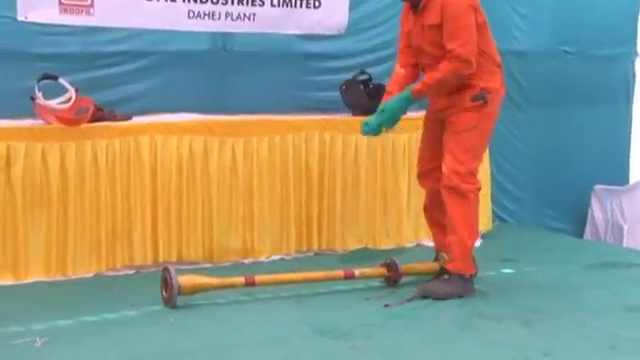person: (362, 1, 505, 304)
